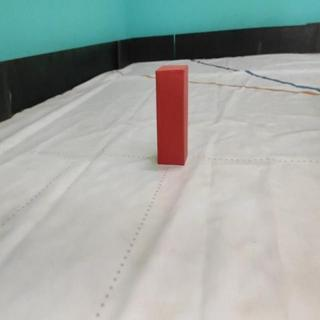redbox: (155, 65, 186, 166)
